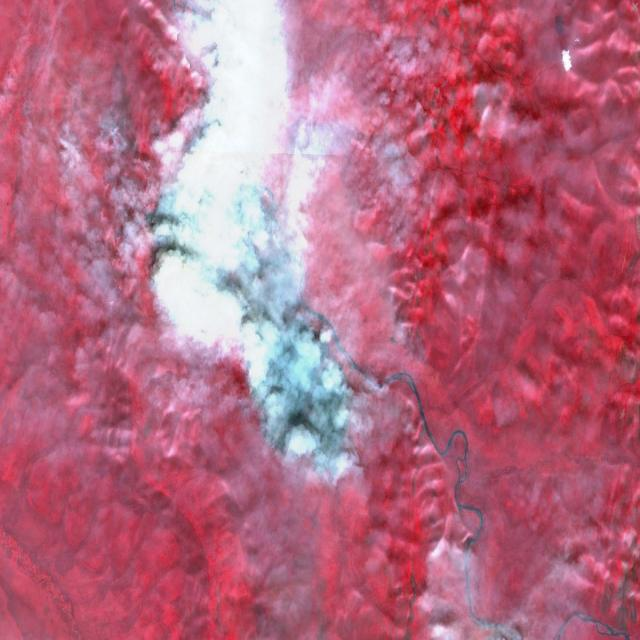fire: (143, 237, 354, 488)
